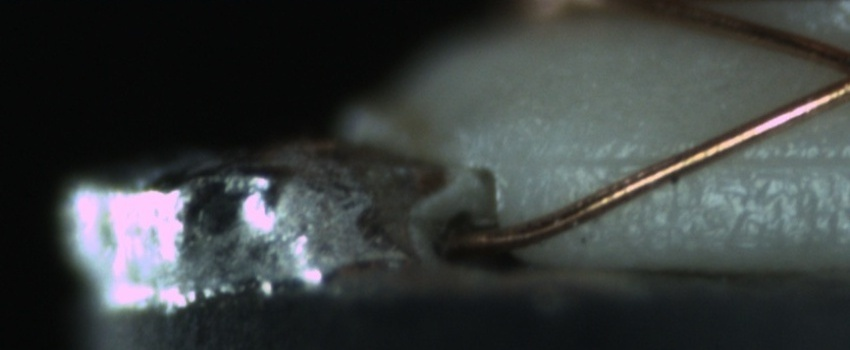CL: (806, 35, 850, 108)
DL: (540, 129, 844, 189)
